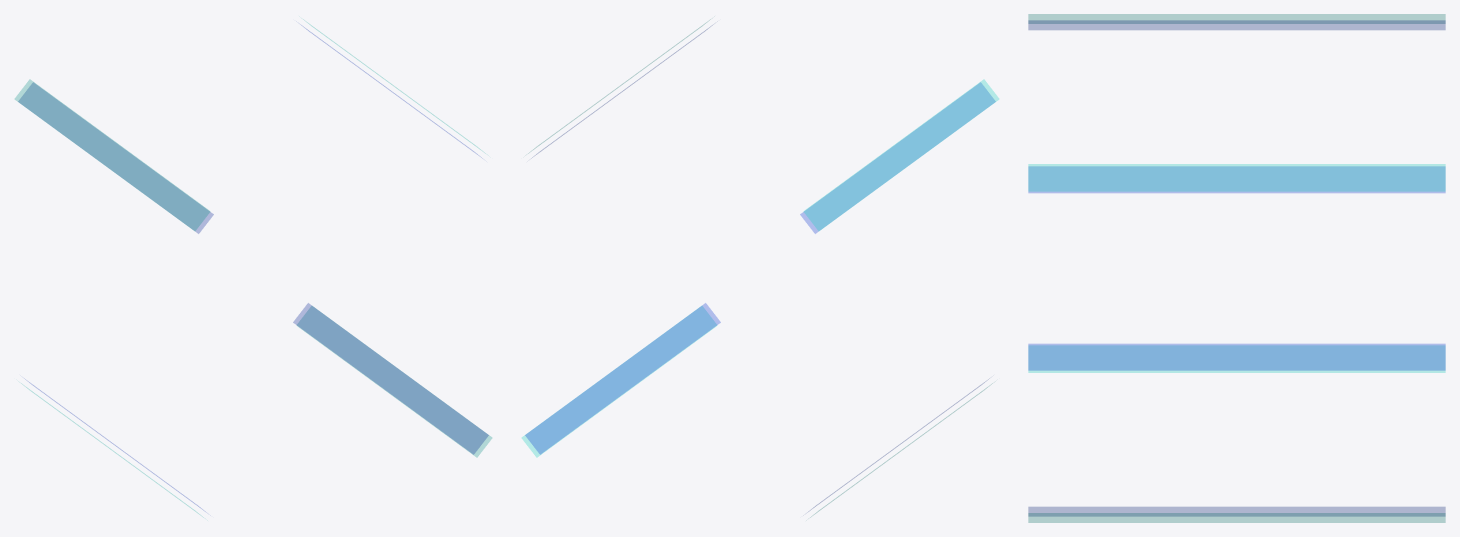
The model's file is Beam.fbx.
The picture shows the model from 3 angles, left to right: view 1: azimuth 30°, elevation 25°; view 2: azimuth 150°, elevation 25°; view 3: azimuth 270°, elevation 25°; orthographic projection. The views are drawn at different scales.
Visible parts, largest first — view 1: Cube; view 2: Cube; view 3: Cube.
Boxes of the visible parts, left/top/right/bottom form: Cube: left=15, top=19, right=491, bottom=517; Cube: left=522, top=19, right=998, bottom=517; Cube: left=1028, top=14, right=1445, bottom=522.
Size of the model in its own units: 0.95 by 0.95 by 1.
